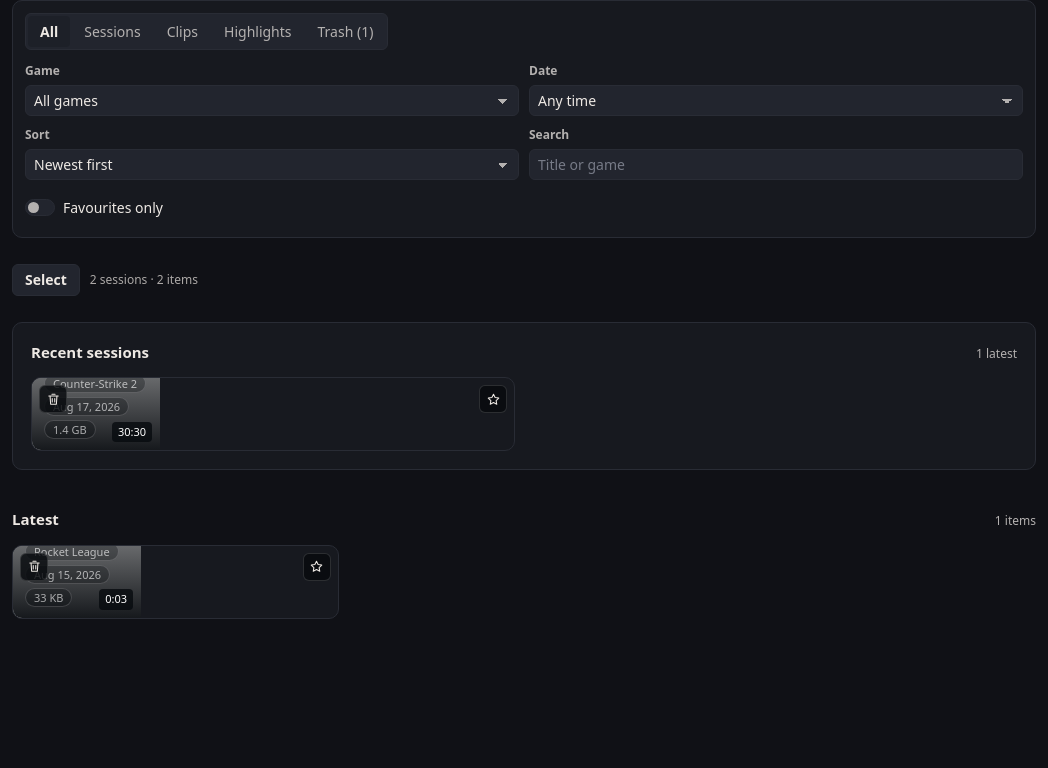
Test: LibraryView delete and selection › lists trashed items when the type filter is Trash, and only those
Click the radio button labelled "Trash (1)". click: point(345, 32)
box: [306,16,385,47]
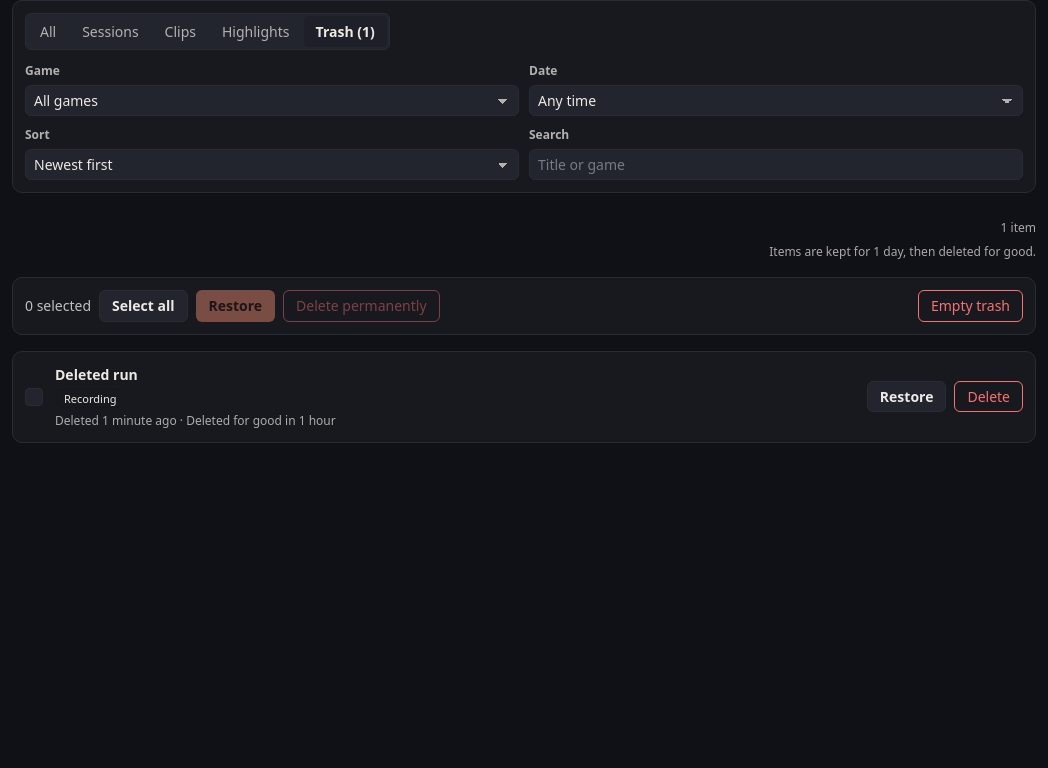
expect the text "Ranked win" is not shown: met
expect the text "Deleted run" is shown: met, box [55,364,138,384]
